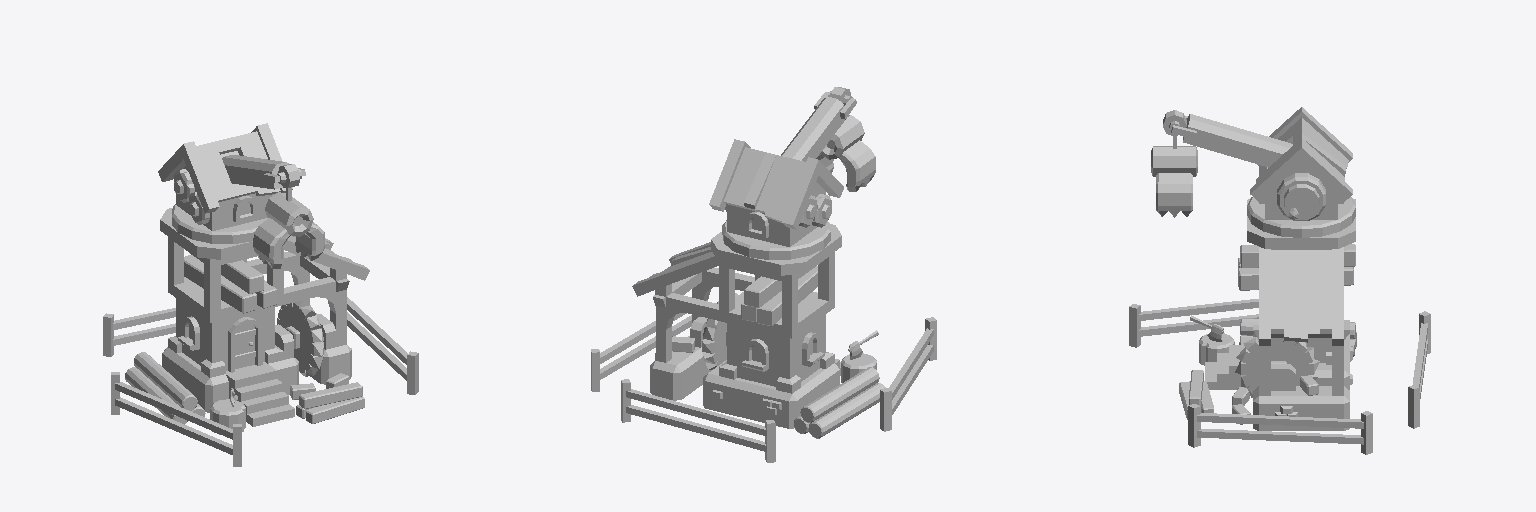
Rendered from lumbermill_v2.obj.
3 views of the same model, side by side, from view 1: azimuth 30°, elevation 25°; view 2: azimuth 150°, elevation 25°; view 3: azimuth 270°, elevation 25° (orthographic).
Visible parts, largest first — view 1: building_lumbermill_blue.001, building_lumbermill_top_blue, building_market_blue.002, building_lumbermill_saw_blue, building_market_blue.001, building_market_blue.003; view 2: building_lumbermill_blue.001, building_lumbermill_top_blue, building_market_blue.003, building_market_blue.002, building_market_blue.001, building_lumbermill_saw_blue; view 3: building_lumbermill_blue.001, building_lumbermill_top_blue, building_market_blue.001, building_market_blue.002, building_lumbermill_saw_blue, building_market_blue.003.
Boxes of the visible parts, box(x1,y1,x2,y2) form: building_lumbermill_blue.001: box(125, 208, 369, 434); building_lumbermill_top_blue: box(158, 123, 324, 268); building_market_blue.002: box(111, 372, 241, 466); building_lumbermill_saw_blue: box(277, 300, 323, 376); building_market_blue.001: box(347, 297, 418, 394); building_market_blue.003: box(103, 308, 175, 356); building_lumbermill_blue.001: box(632, 224, 885, 438); building_lumbermill_top_blue: box(709, 87, 875, 259); building_market_blue.003: box(621, 379, 775, 462); building_market_blue.002: box(880, 317, 936, 431); building_market_blue.001: box(591, 313, 691, 391); building_lumbermill_saw_blue: box(702, 293, 737, 369); building_lumbermill_blue.001: box(1179, 198, 1356, 430); building_lumbermill_top_blue: box(1151, 107, 1355, 237); building_market_blue.001: box(1188, 404, 1372, 454); building_market_blue.002: box(1129, 299, 1258, 347); building_lumbermill_saw_blue: box(1235, 337, 1319, 397); building_market_blue.003: box(1408, 311, 1430, 428).
Size of the model in its own units: 1.79 by 1.71 by 1.74.